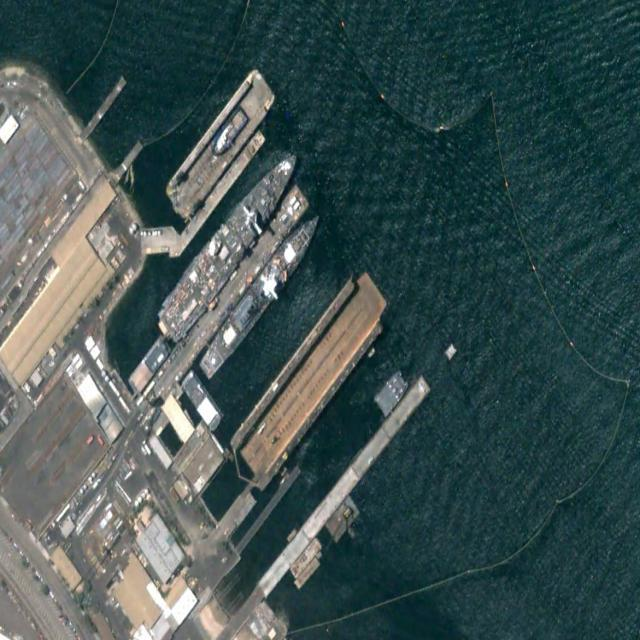Destroyer: (196, 203, 326, 383)
Other Ship: (151, 135, 308, 350), (374, 369, 410, 418)
